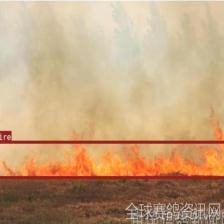fire: (0, 140, 224, 178)
